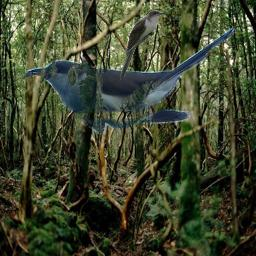Cuckoo: (24, 26, 242, 135), (118, 9, 166, 81)
